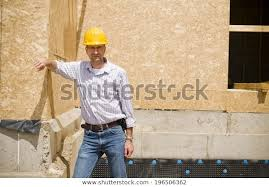Person_wearing_helmet: (81, 23, 109, 52)
